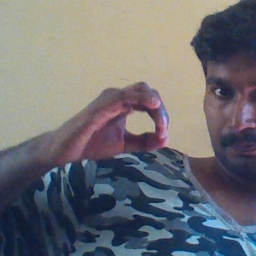O: (52, 76, 171, 167)
